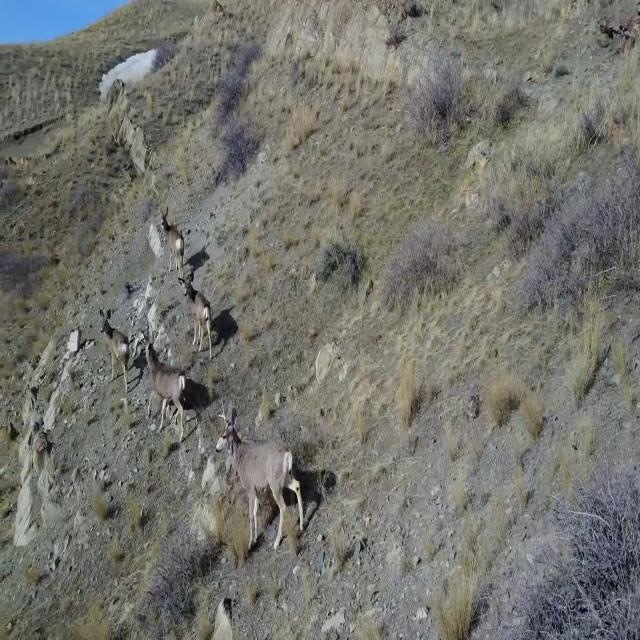Deer: (214, 402, 304, 551), (138, 334, 187, 444), (180, 267, 214, 361), (97, 304, 131, 392), (156, 200, 186, 275)
